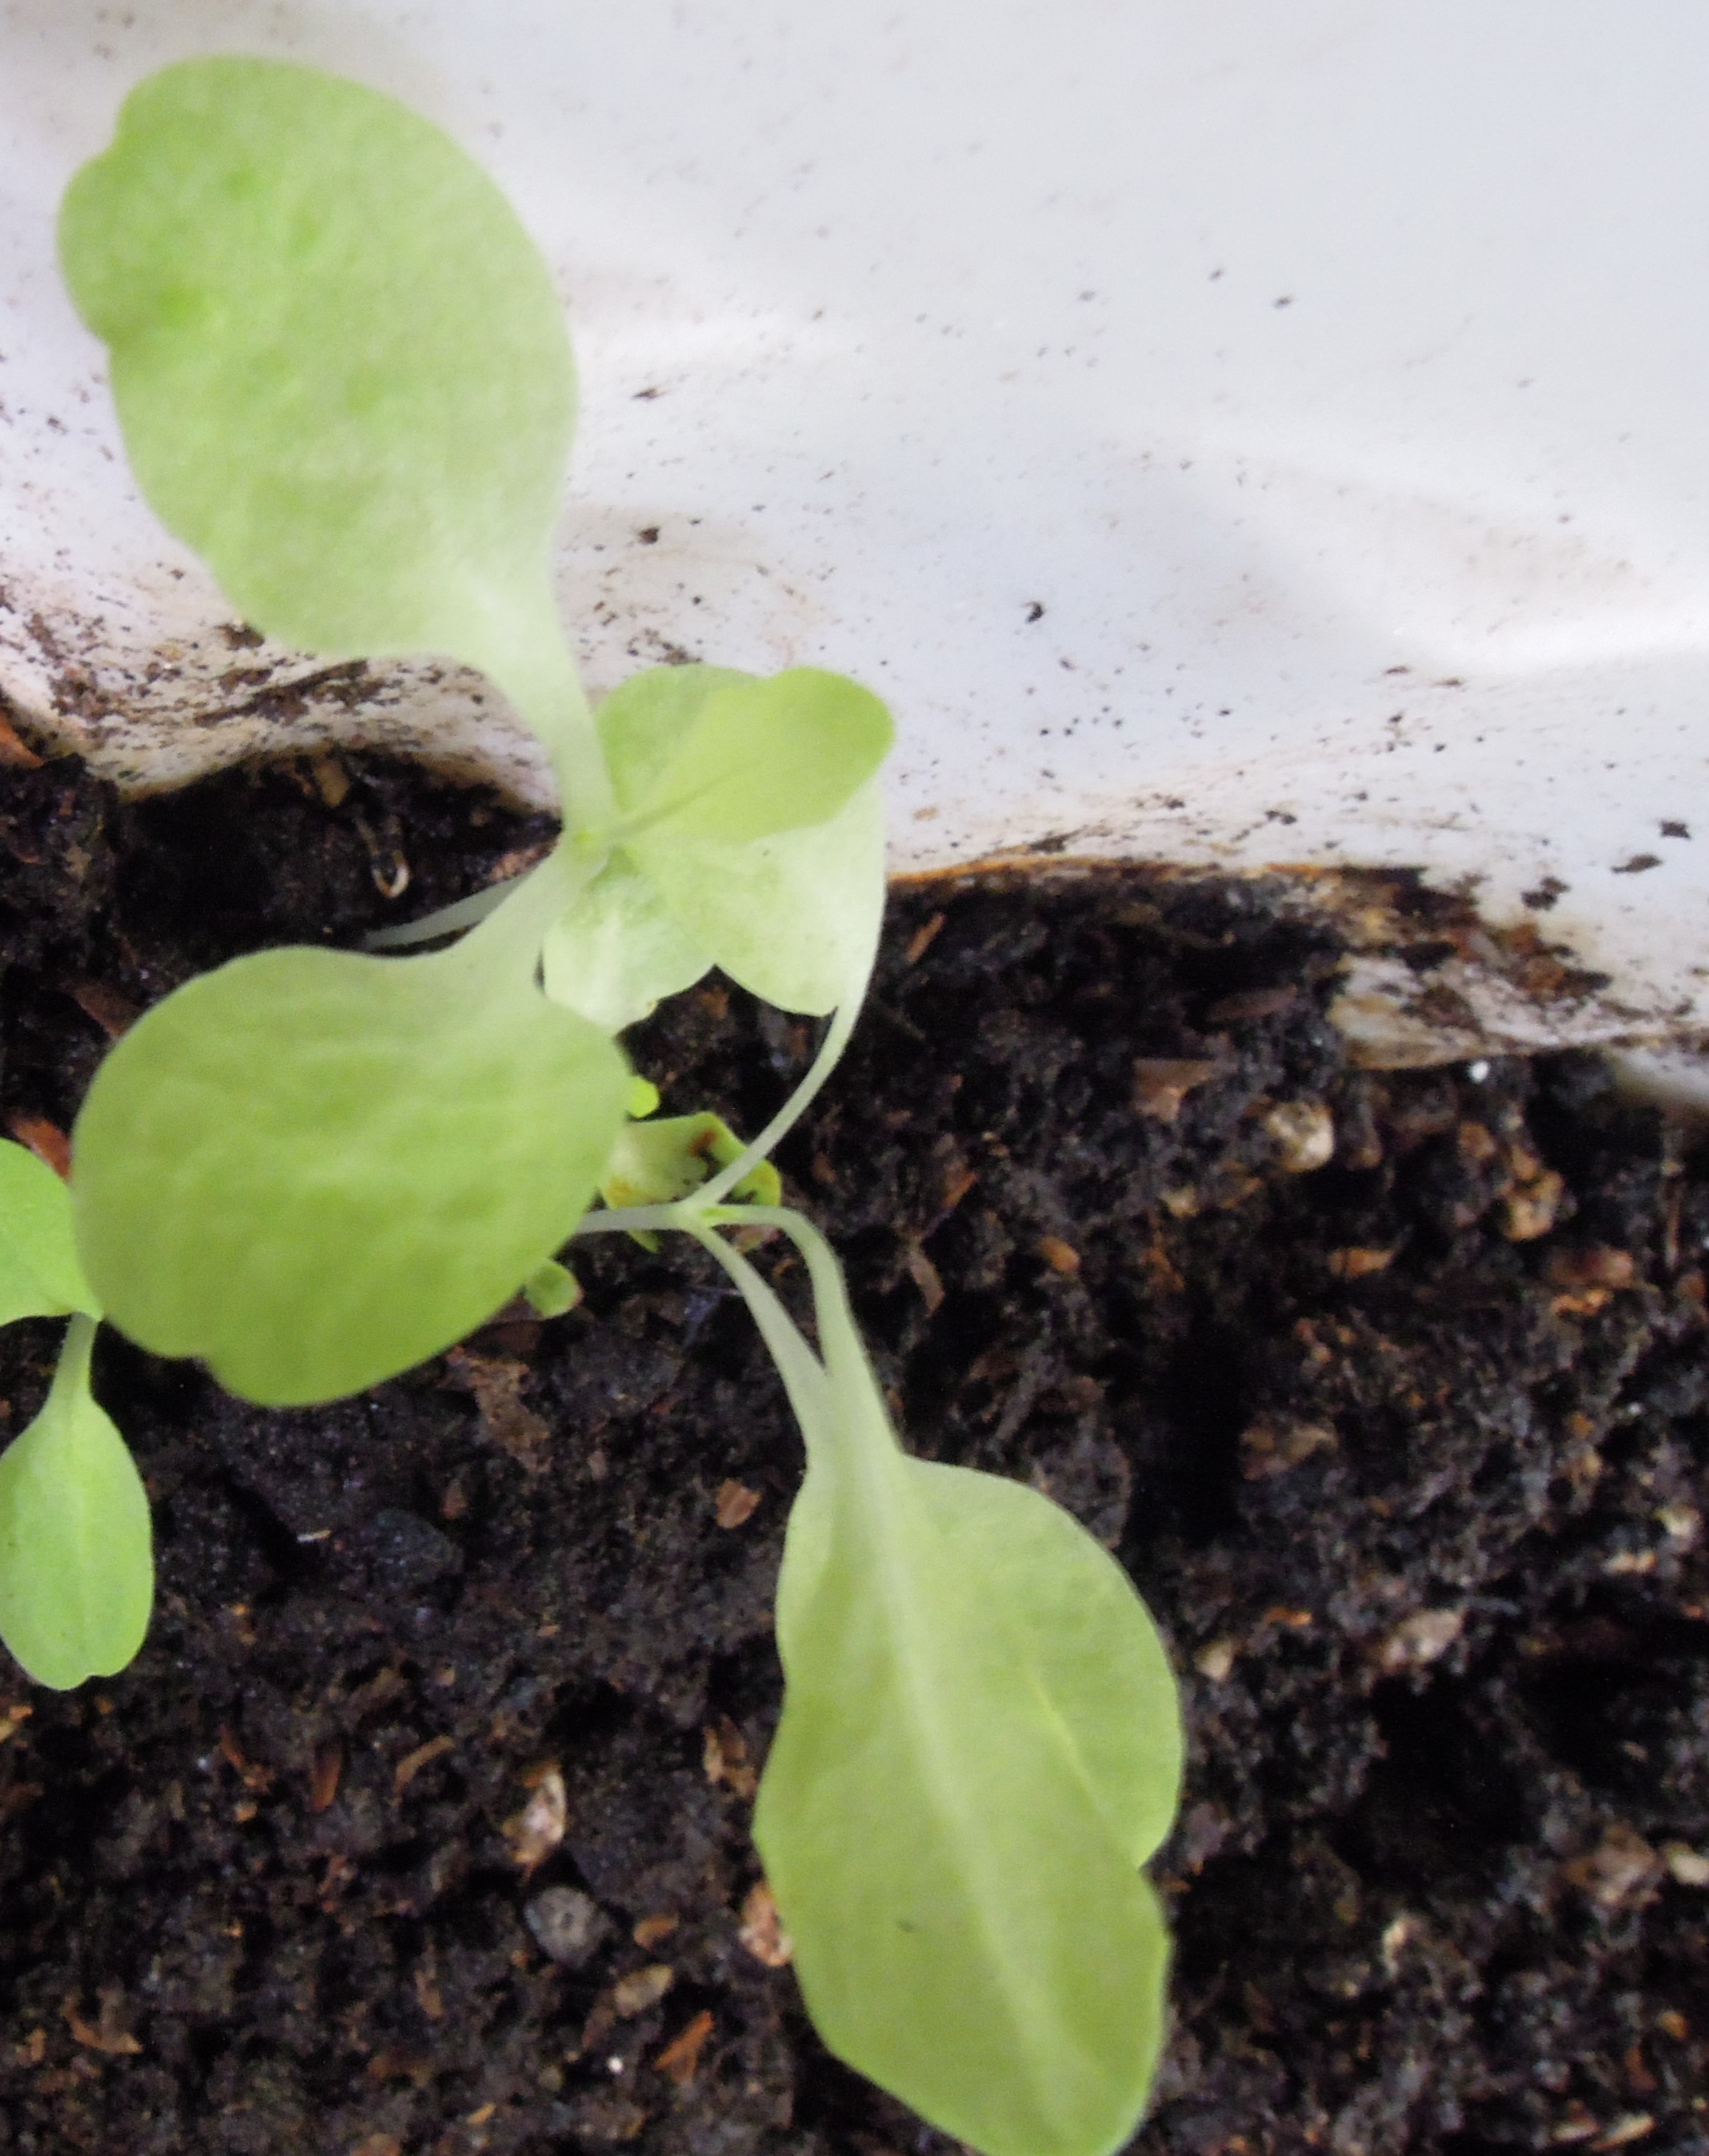week2: (54, 54, 595, 917), (105, 791, 569, 1437), (513, 651, 1016, 892)
